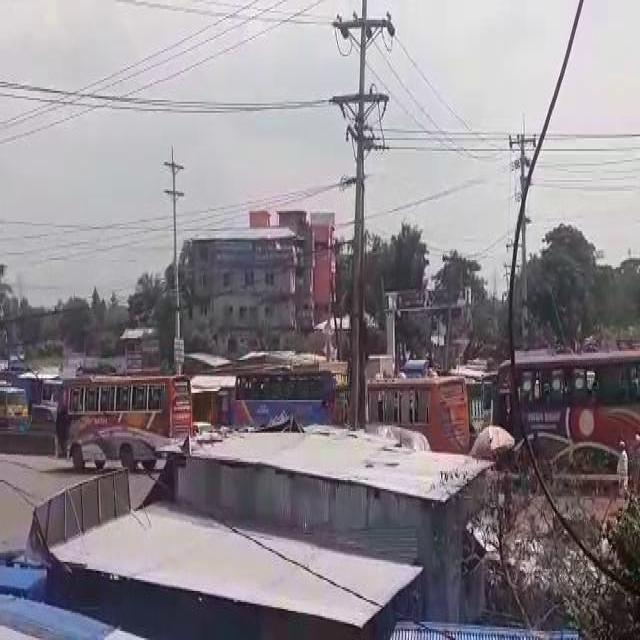Truck: (489, 348, 639, 459), (61, 373, 190, 471), (234, 358, 348, 447), (367, 374, 469, 454)
